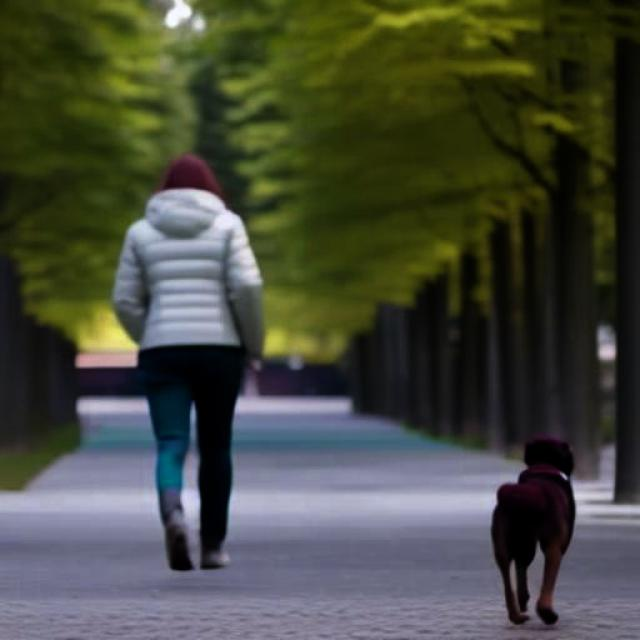Unleashed_Dog: (138, 343, 576, 626)
